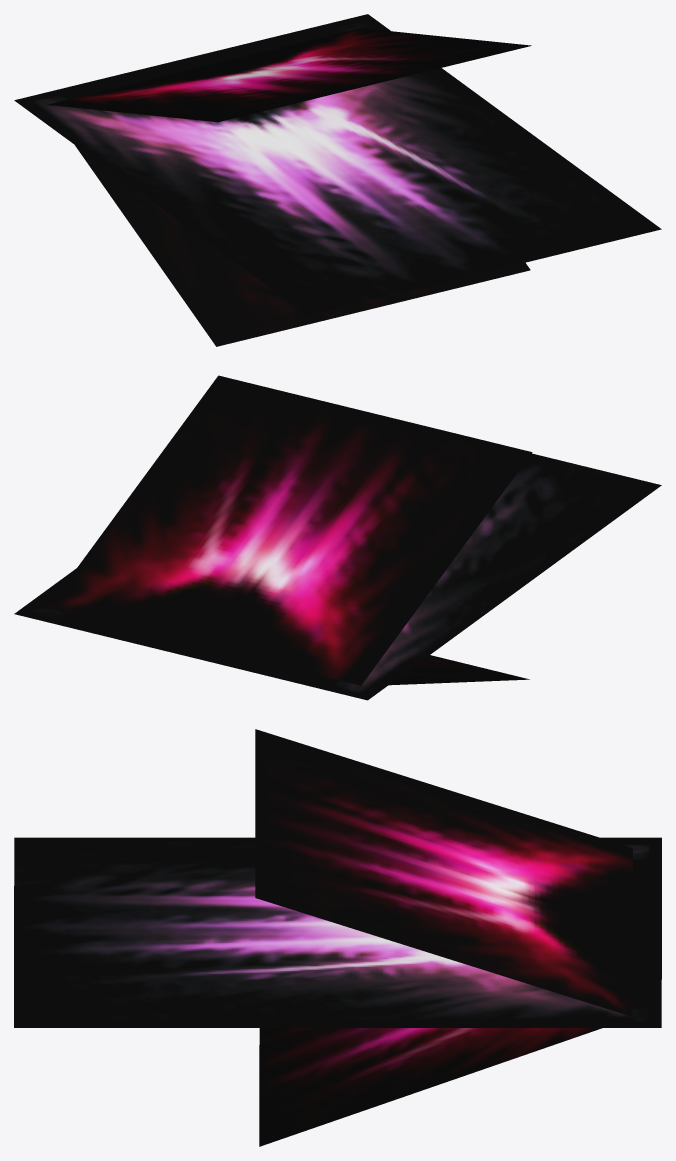
File: fx_fbx_skill_102_fan_attack_1.FBX
3 renders of one model, top to bottom at view 1: azimuth 30°, elevation 25°; view 2: azimuth 150°, elevation 25°; view 3: azimuth 270°, elevation 25°, orthographic. The views are drawn at different scales.
Parts seen in each view (by area): view 1: Plane001; view 2: Plane001; view 3: Plane001.
Boxes of the visible parts, bbox=[...] form: Plane001: bbox=[14, 14, 661, 346]; Plane001: bbox=[14, 375, 661, 700]; Plane001: bbox=[14, 729, 661, 1146].
Size of the model in its own units: 56.31 by 81.05 by 34.35.
Materials: 1 (1 with a texture image).
